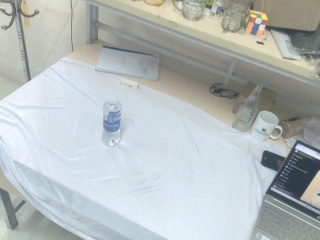bottle: (232, 85, 263, 133), (102, 96, 122, 147)
cup: (221, 1, 253, 33), (250, 111, 283, 142)
phone: (260, 149, 286, 172)
